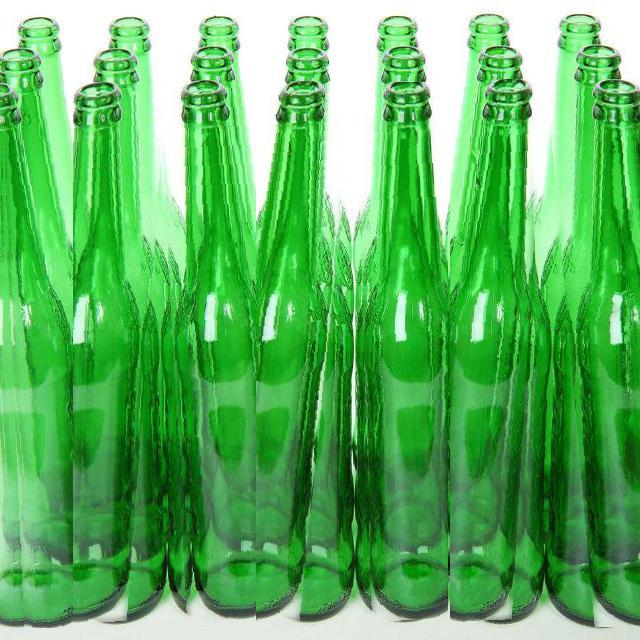Glass: (60, 81, 167, 625), (159, 80, 262, 624), (256, 81, 356, 625), (546, 80, 640, 628), (450, 79, 544, 624), (356, 82, 448, 622), (0, 82, 73, 628)
